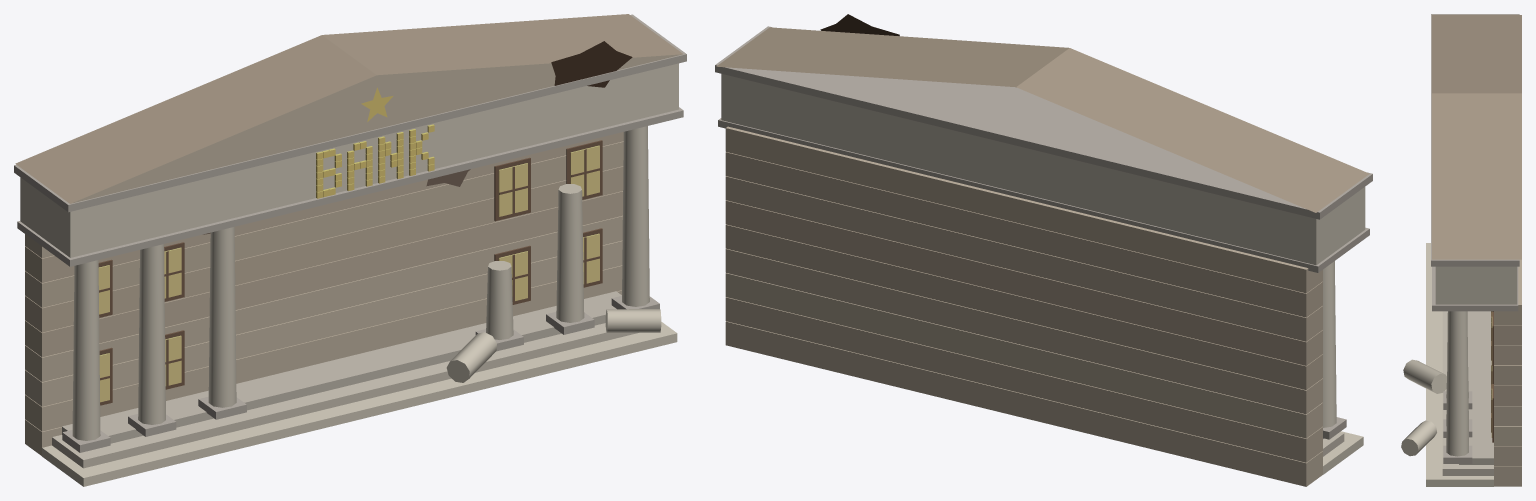
The model's file is grand_bank.glb.
3 views of the same model, side by side, from view 1: azimuth 30°, elevation 25°; view 2: azimuth 150°, elevation 25°; view 3: azimuth 270°, elevation 25° (orthographic). The views are drawn at different scales.
Visible parts, largest first — view 1: grand_bank; view 2: grand_bank; view 3: grand_bank.
Boxes of the visible parts, box(x1,y1,x2,y2) form: grand_bank: box(14, 14, 686, 486); grand_bank: box(715, 14, 1372, 486); grand_bank: box(1401, 14, 1521, 486).
Bounding box in the file's own units: 25 × 13 × 5.17.
